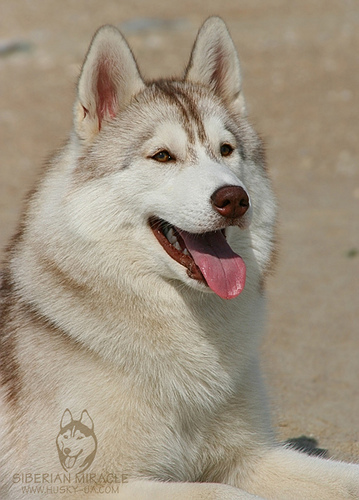dog: (0, 11, 357, 498)
